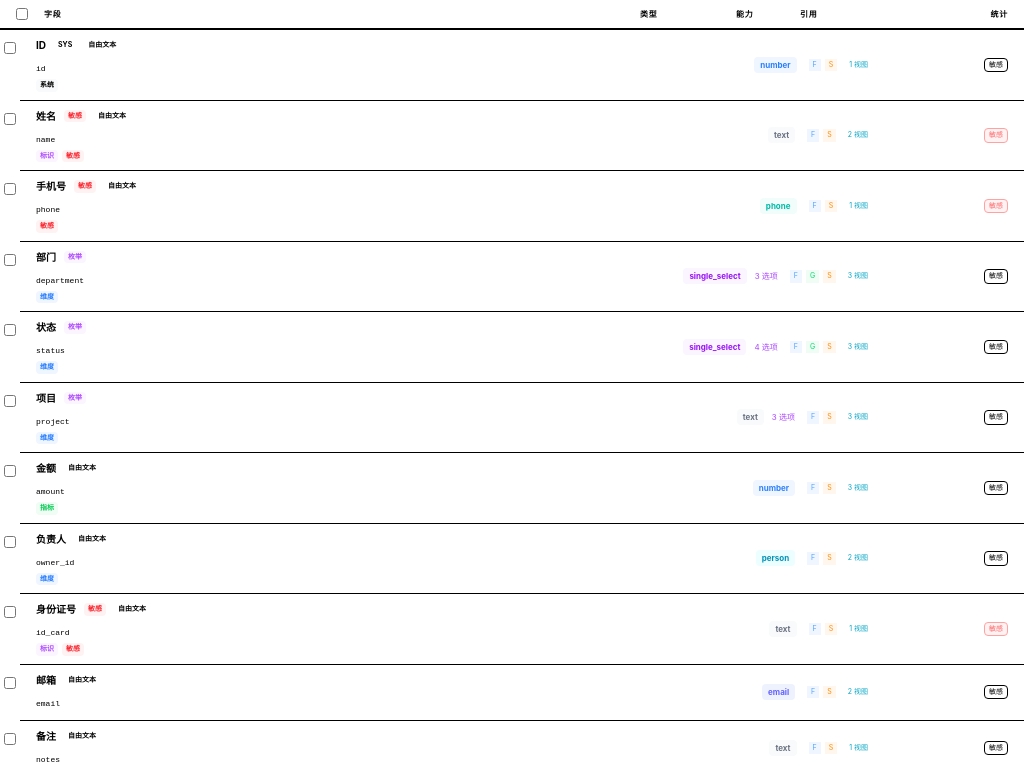
FieldsTab › 点击枚举字段展开字典面板
Click the text "枚举" next to "部门": (75, 257) left=64, top=251, right=86, bottom=263
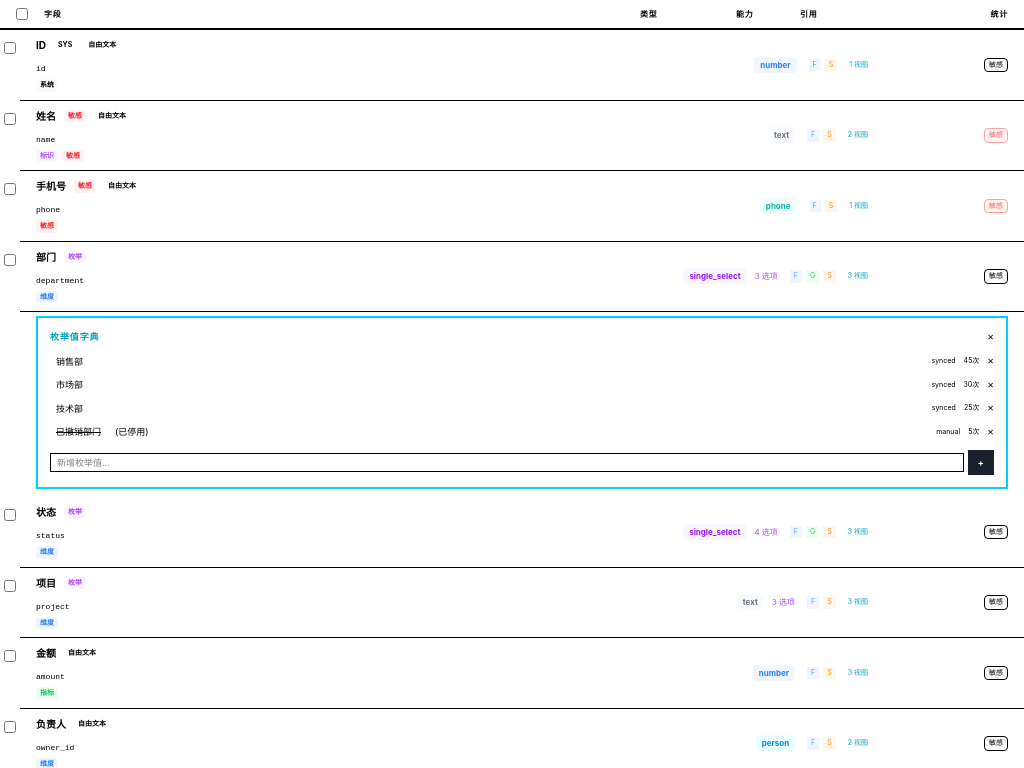
Now the text "枚举值字典" is shown, box left=50, top=330, right=100, bottom=344
